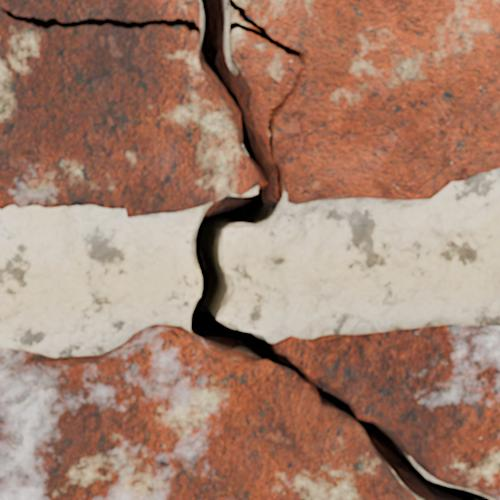broken_brick: (0, 323, 412, 499), (233, 0, 499, 205), (0, 13, 250, 217), (274, 324, 499, 499), (0, 0, 196, 21)
crack: (0, 0, 498, 499)
